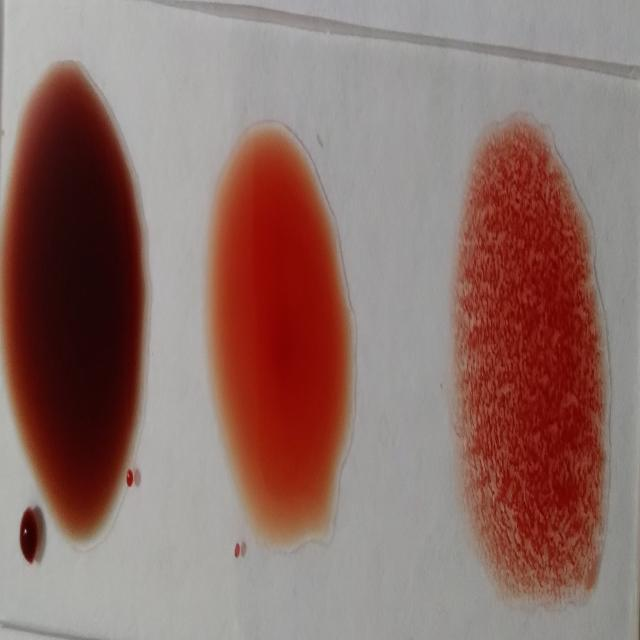D: (457, 112, 609, 590)
